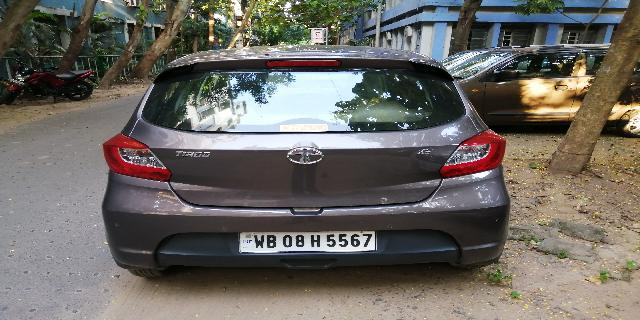Car: (97, 38, 513, 268), (452, 47, 640, 142)
